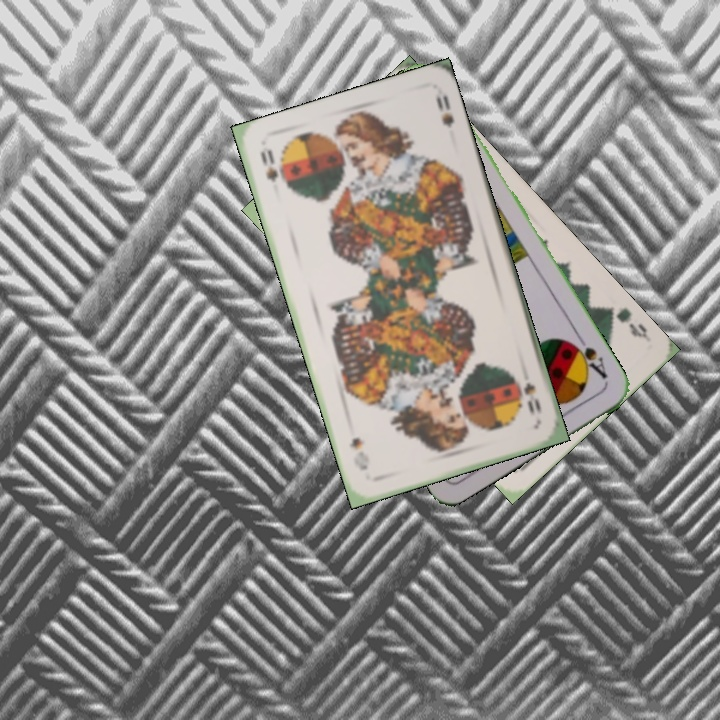G9: (600, 302, 653, 344)
SA: (566, 331, 610, 382)
SO: (513, 375, 544, 419), (256, 145, 281, 185)
